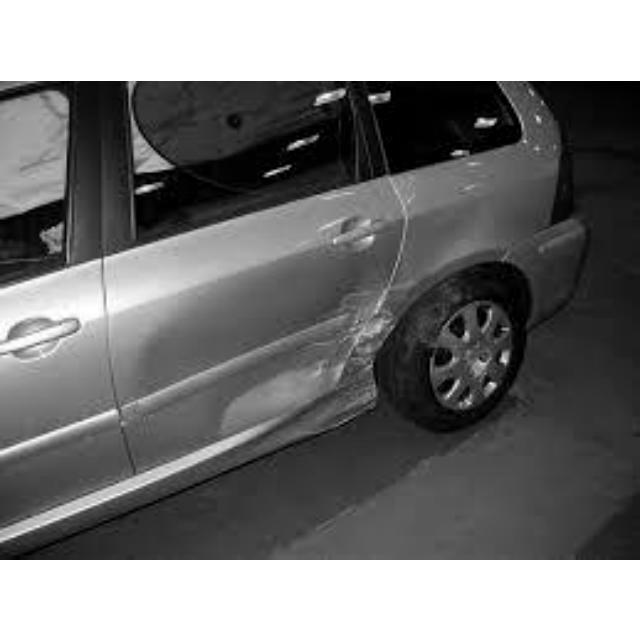Runningboard-Damage: (218, 380, 378, 461)
doorouter-dent: (267, 189, 385, 411)
